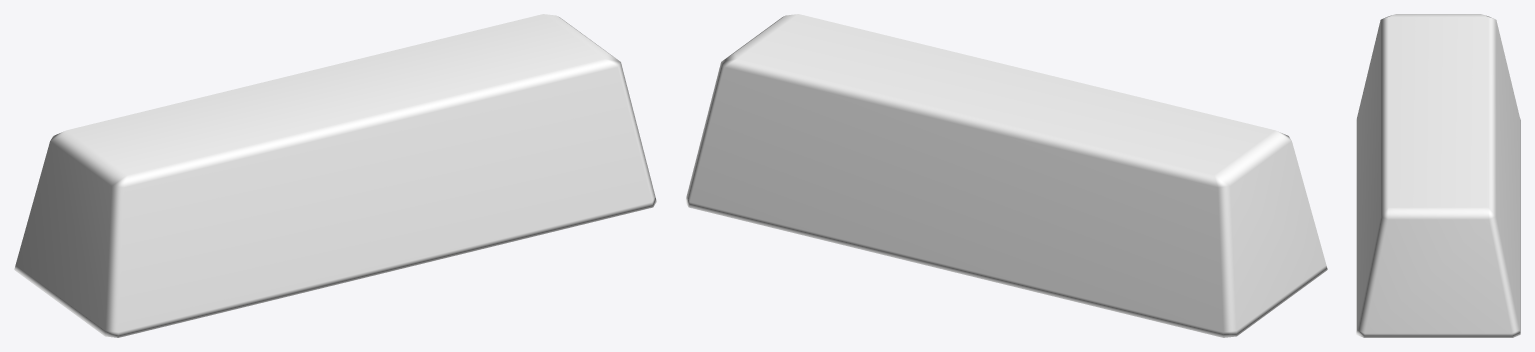
File: SM_RefinedMetal_3a.fbx
The picture shows the model from 3 angles, left to right: view 1: azimuth 30°, elevation 25°; view 2: azimuth 150°, elevation 25°; view 3: azimuth 270°, elevation 25°; orthographic projection. The views are drawn at different scales.
Visible parts, largest first — view 1: RefinedMetal_3a; view 2: RefinedMetal_3a; view 3: RefinedMetal_3a.
Part boxes in pixels (left/top/right/bottom): RefinedMetal_3a: left=14, top=14, right=656, bottom=337; RefinedMetal_3a: left=685, top=14, right=1327, bottom=337; RefinedMetal_3a: left=1356, top=14, right=1520, bottom=337.
Size of the model in its own units: 0.8441 by 0.2067 by 0.2668.
